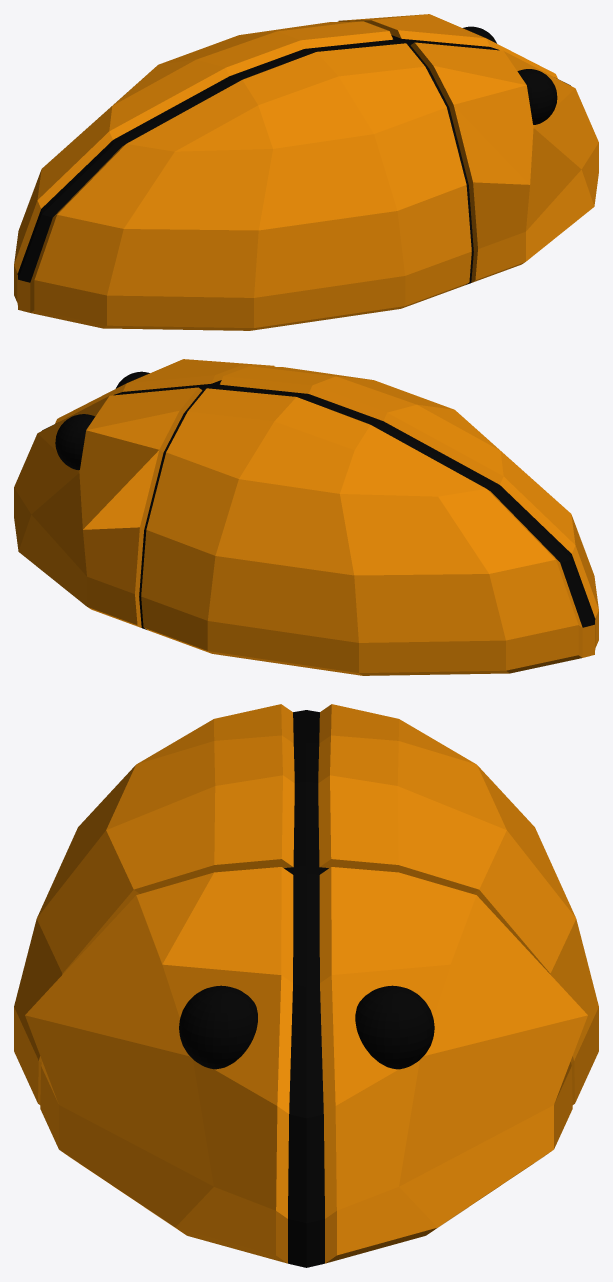
The model's file is smallInsects.fbx.
3 renders of one model, top to bottom at view 1: azimuth 30°, elevation 25°; view 2: azimuth 150°, elevation 25°; view 3: azimuth 270°, elevation 25°, orthographic. The views are drawn at different scales.
Visible parts, largest first — view 1: Cube, Sphere; view 2: Cube, Sphere.001; view 3: Cube, Sphere.001, Sphere.
Part boxes in pixels (x1,y1,x2,y2): Cube: (14,14,598,330); Sphere: (517,69,557,124); Cube: (14,359,598,675); Sphere.001: (55,414,95,470); Cube: (14,704,598,1267); Sphere.001: (355,985,434,1069); Sphere: (179,985,257,1069).
Size of the model in its own units: 424 by 136 by 251.
